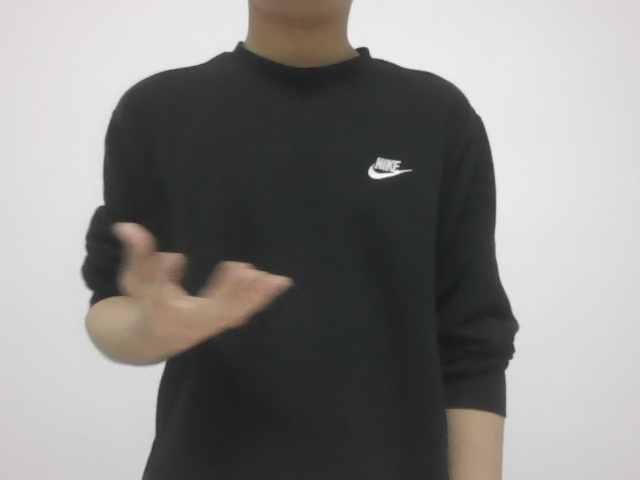flavor: (109, 209, 299, 356)
